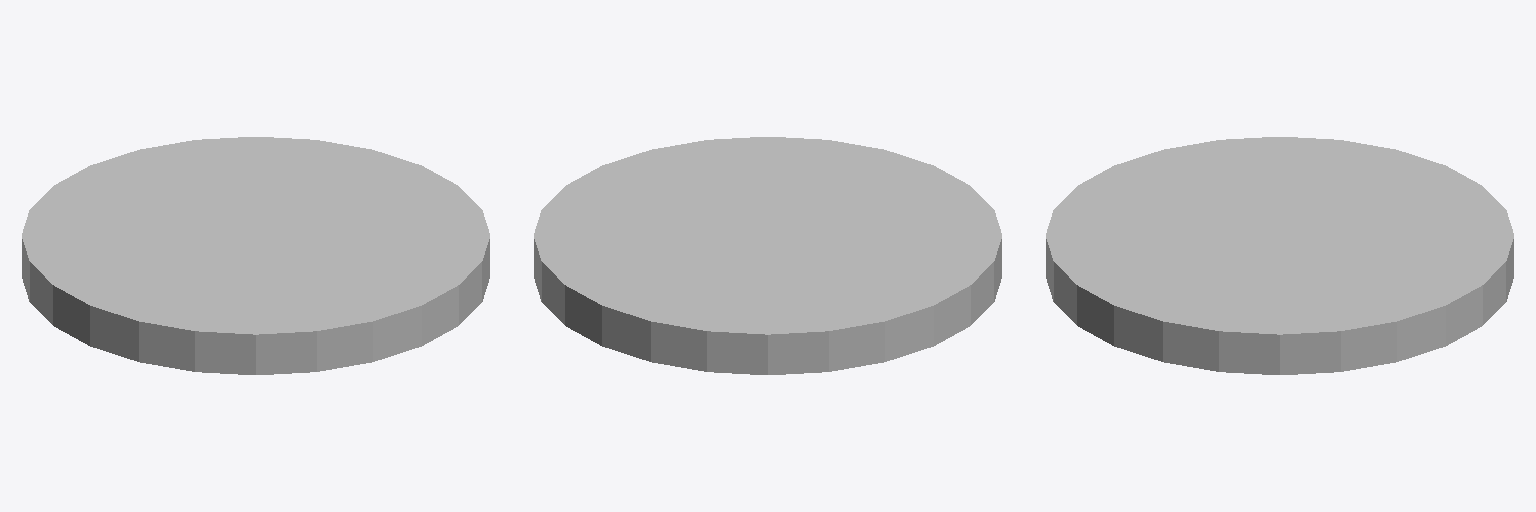
File: original-456.obj
The picture shows the model from 3 angles: view 1: azimuth 30°, elevation 25°; view 2: azimuth 150°, elevation 25°; view 3: azimuth 270°, elevation 25°; orthographic projection.
Parts seen in each view (by area): view 1: mesh12/mesh12-geometry#mesh12-geometry; view 2: mesh12/mesh12-geometry#mesh12-geometry; view 3: mesh12/mesh12-geometry#mesh12-geometry.
Part boxes in pixels (x1,y1,x2,y2): mesh12/mesh12-geometry#mesh12-geometry: (22, 137, 489, 374); mesh12/mesh12-geometry#mesh12-geometry: (534, 137, 1001, 374); mesh12/mesh12-geometry#mesh12-geometry: (1046, 137, 1513, 374).
Bounding box in the file's own units: 0.0742 × 0.0071 × 0.0742.